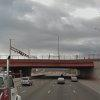Bridge: (4, 51, 95, 75)
